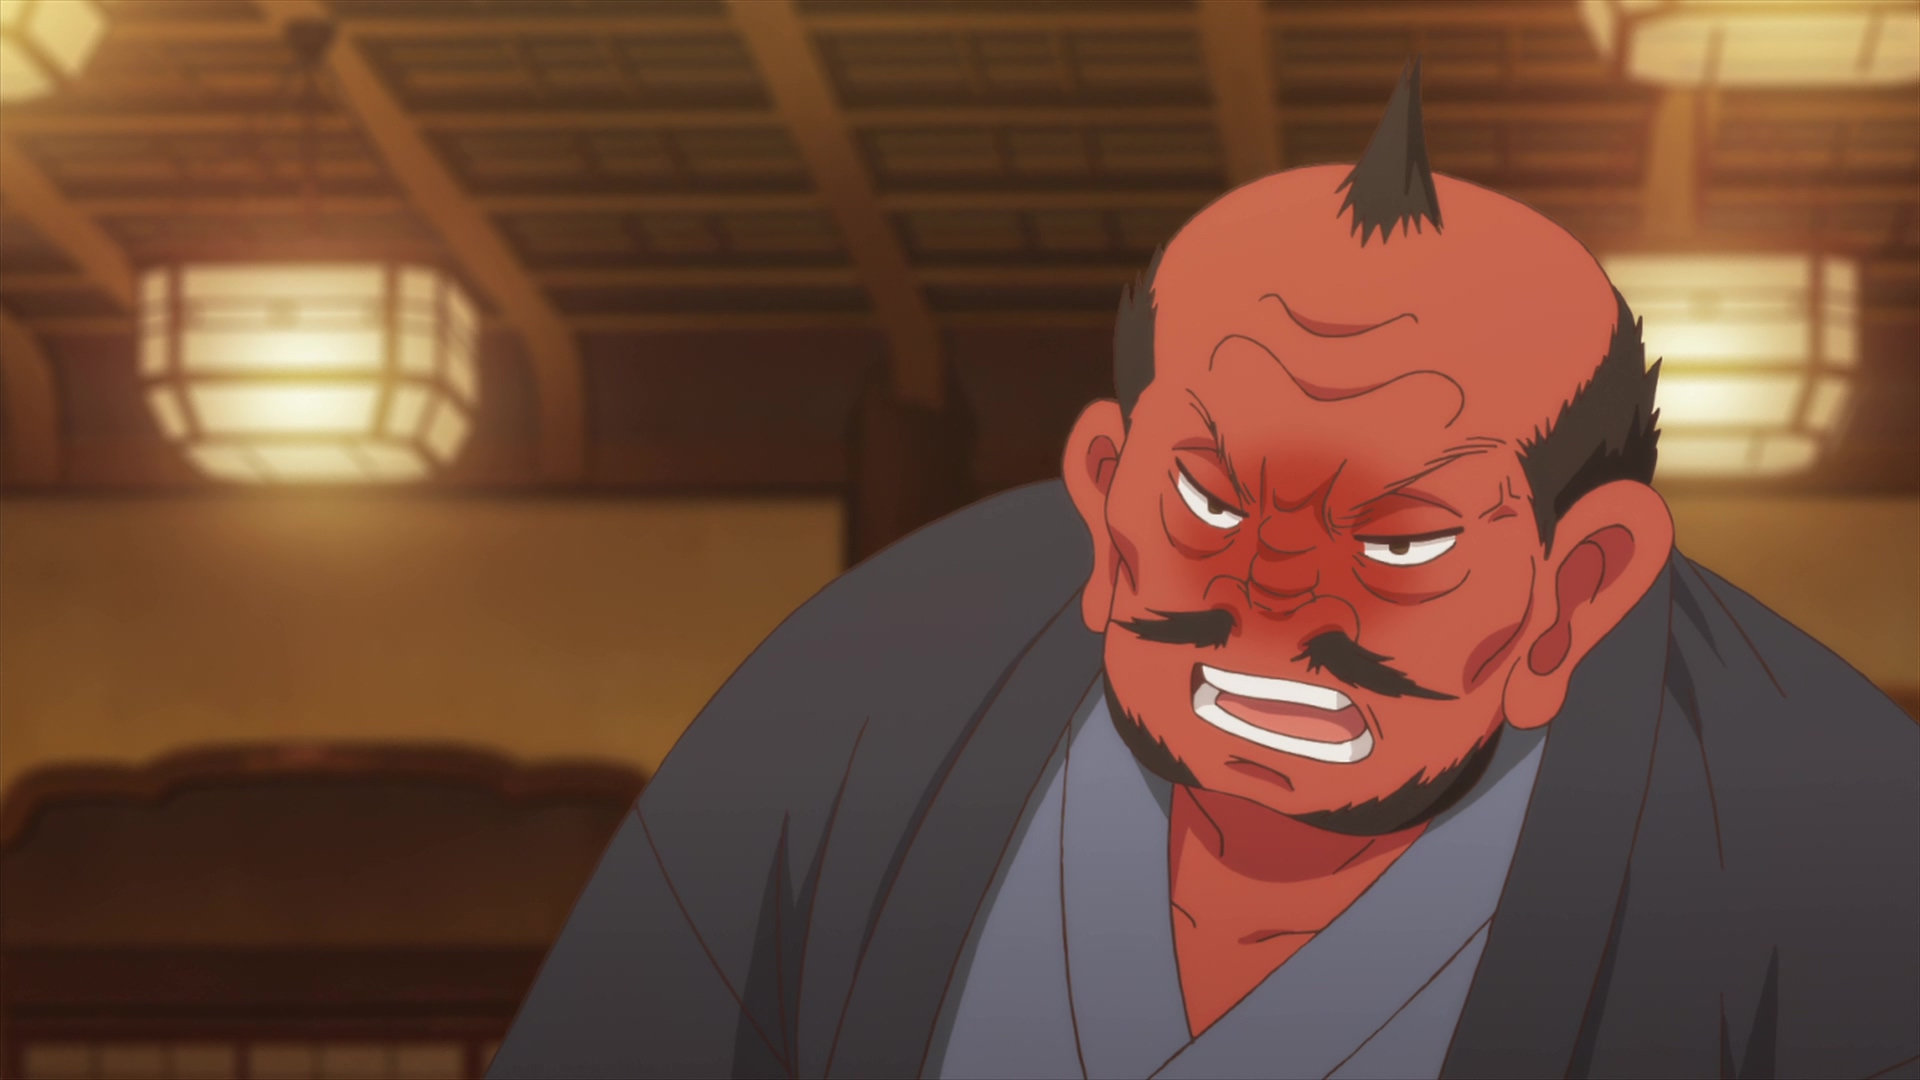其他: (495, 58, 1920, 1080)
